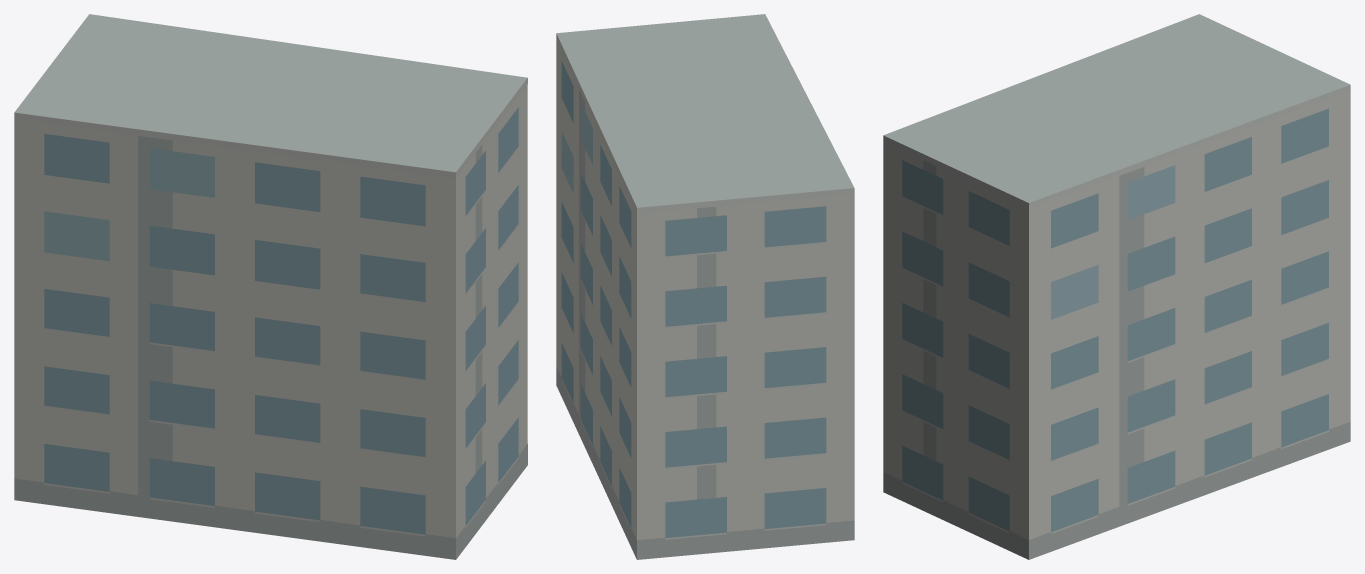
The model's file is survey-upis-32842753.glb.
The picture shows the model from 3 angles, left to right: view 1: azimuth 30°, elevation 25°; view 2: azimuth 150°, elevation 25°; view 3: azimuth 270°, elevation 25°; orthographic projection. The views are drawn at different scales.
Parts seen in each view (by area): view 1: survey-upis-32842753.tmp; view 2: survey-upis-32842753.tmp; view 3: survey-upis-32842753.tmp.
Boxes of the visible parts, <box> form: survey-upis-32842753.tmp: <box>14,14,527,559</box>; survey-upis-32842753.tmp: <box>556,14,854,559</box>; survey-upis-32842753.tmp: <box>883,14,1350,559</box>.
Size of the model in its own units: 16.14 by 14.2 by 16.87.
